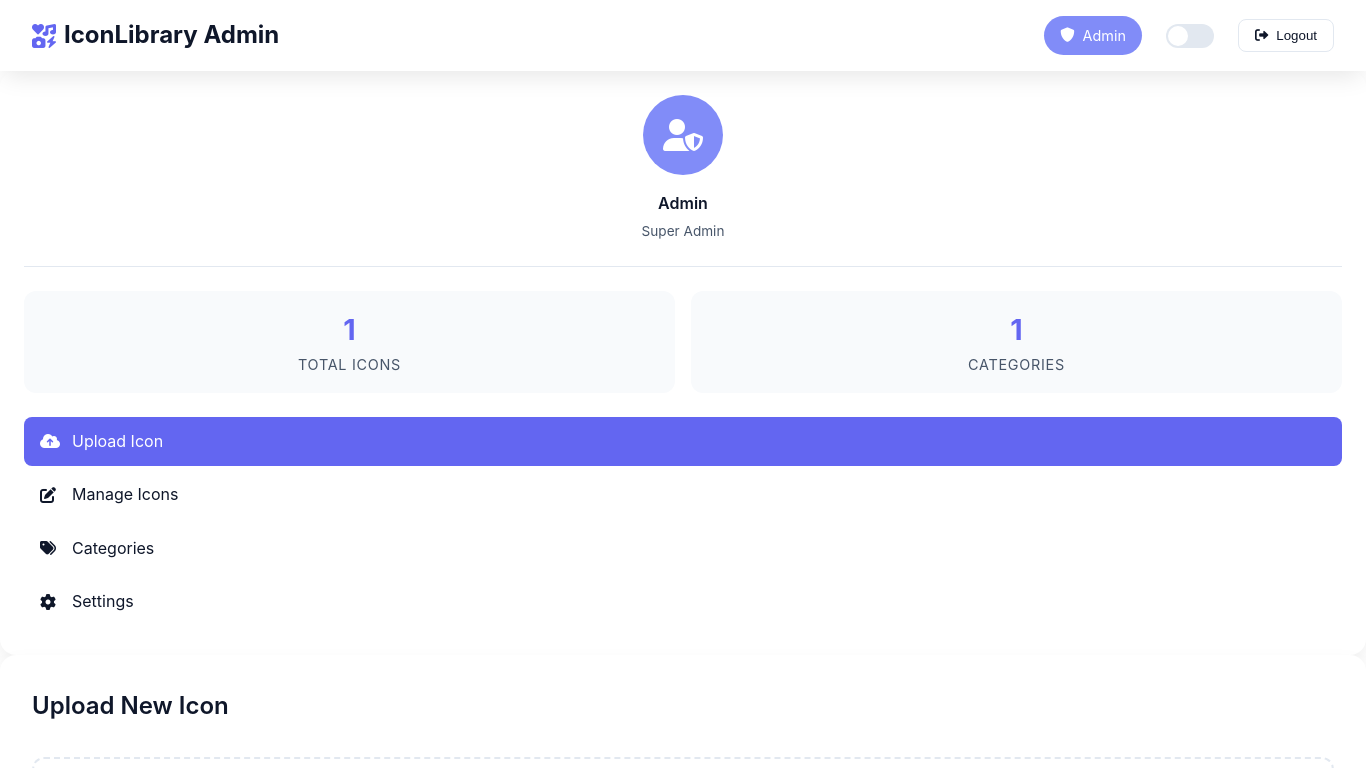
Scenario: AdminPanel category management › prevents duplicate category creation
Click the 2nd text "Categories" at (113, 548), box [72,536,154,561]
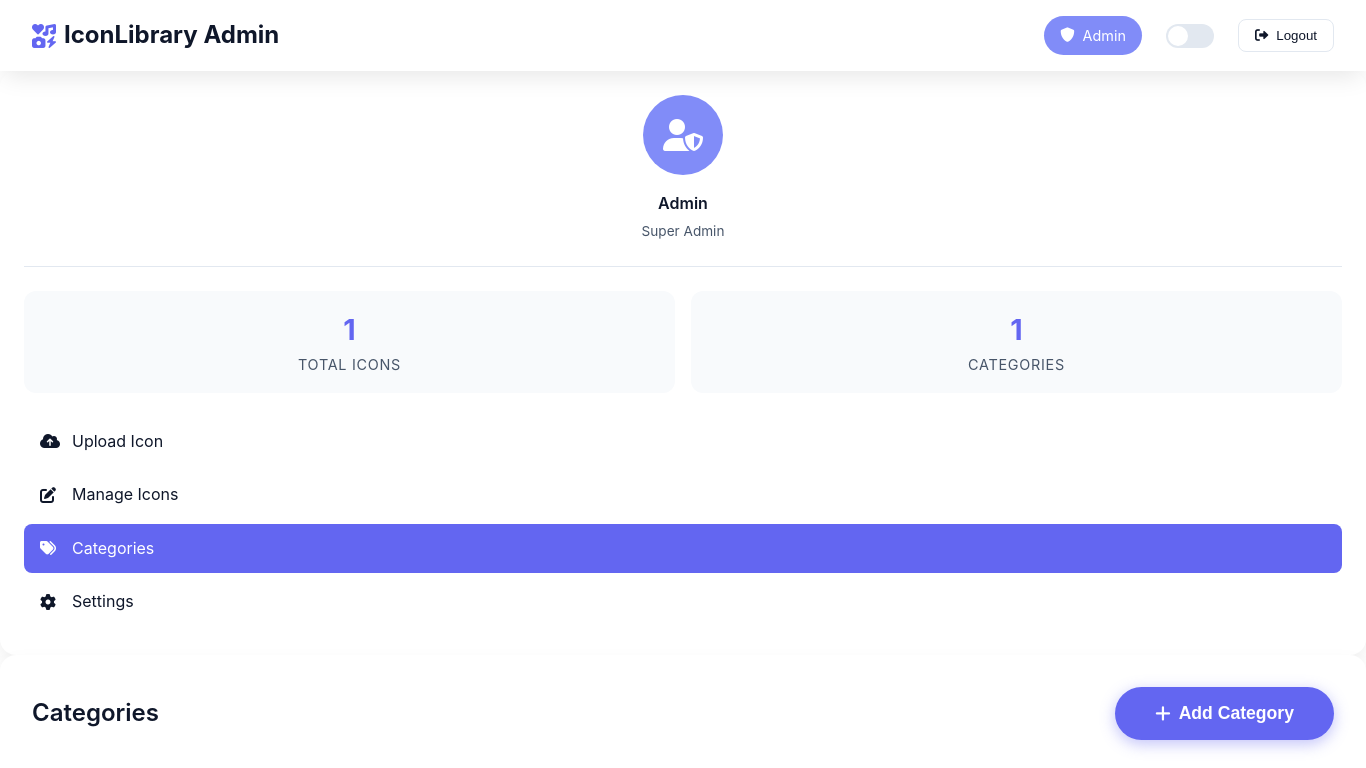
Click the button "Add Category" at (1225, 713), box [1115,687,1334,740]
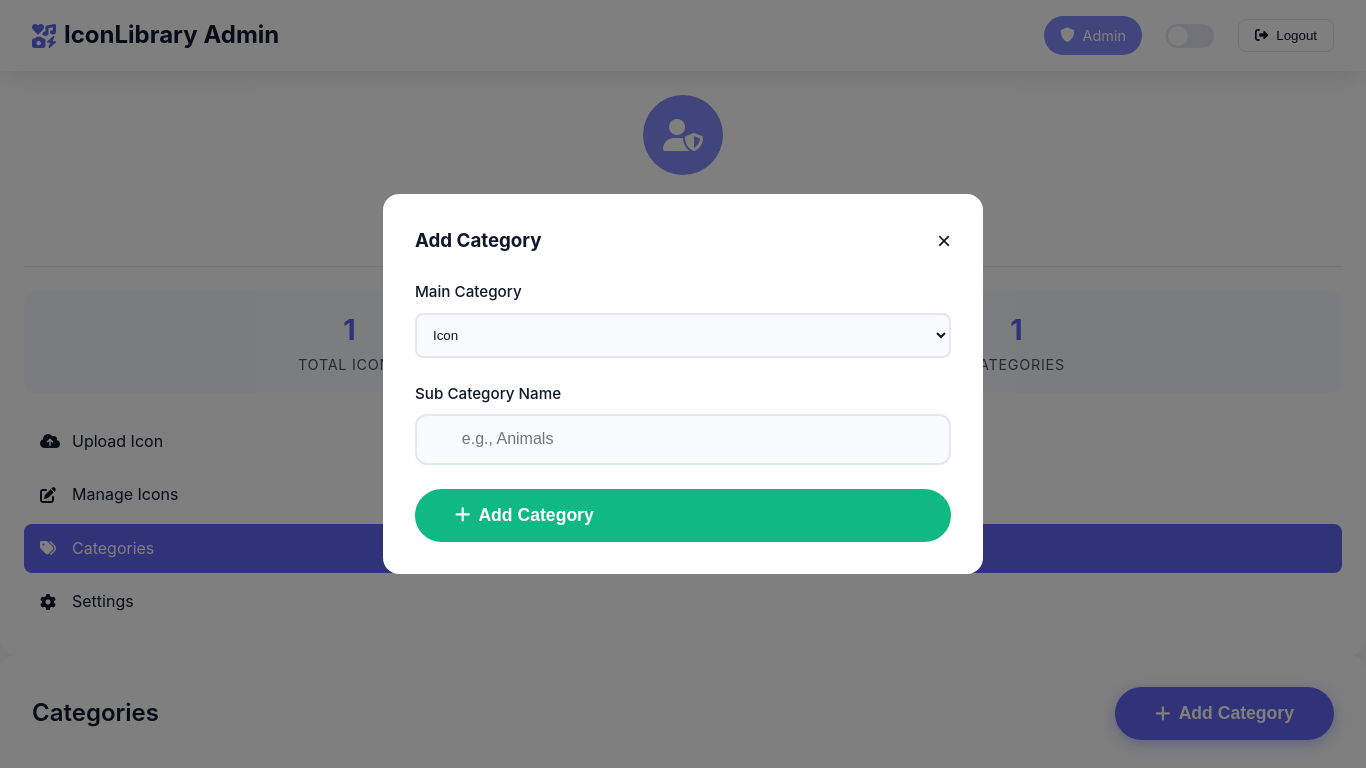
Type "food" into the field with placeholder "e.g., Animals" at (683, 439), box [415,414,951,465]
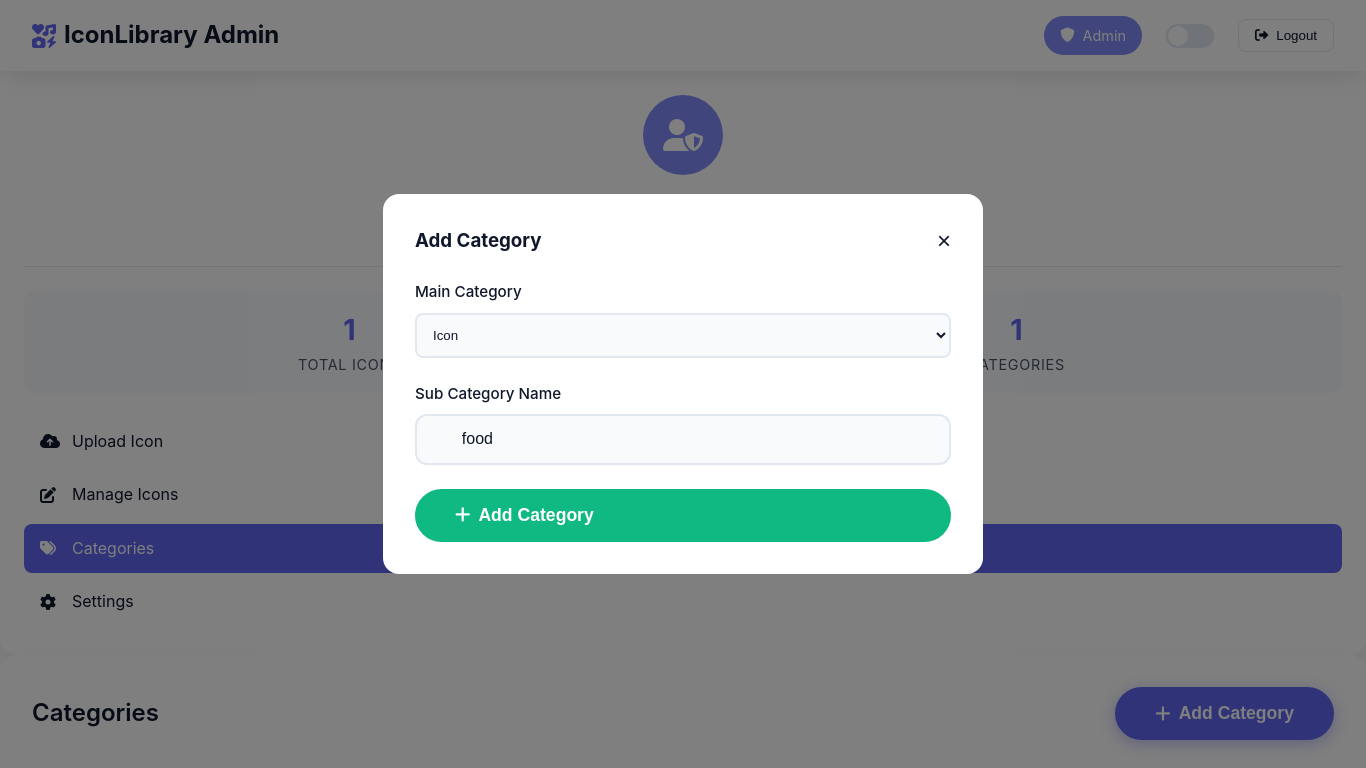
Click the button with class "btn-success" at (536, 515), box [415,489,951,542]
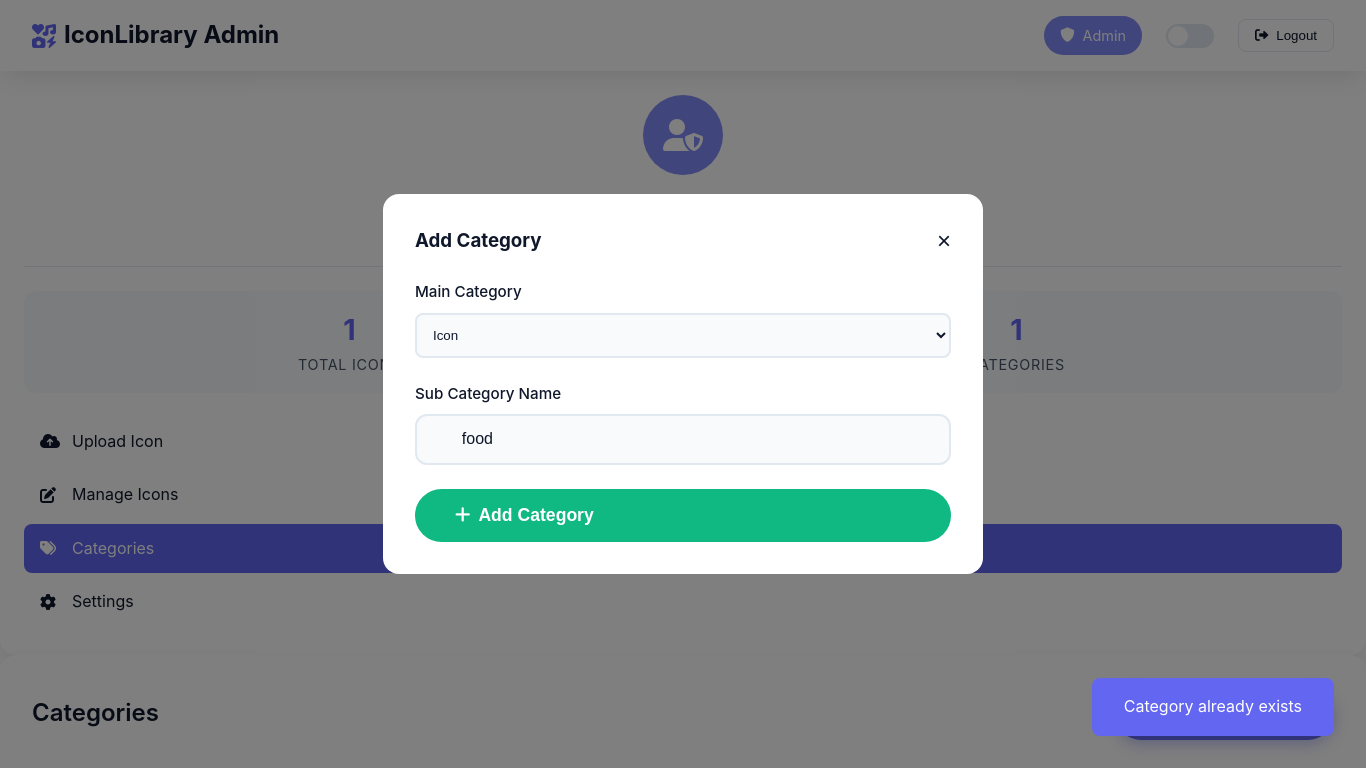
Expected: the text "Category already exists" is shown, [1092,678,1334,736]
